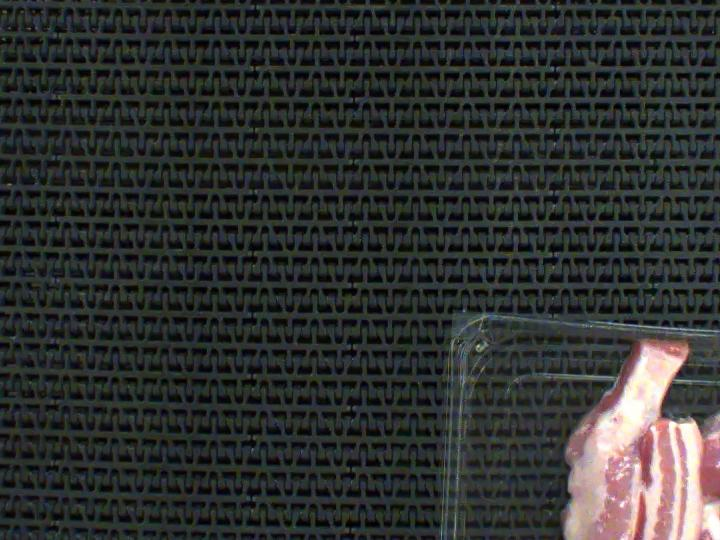packaging-error: (611, 291, 720, 372)
